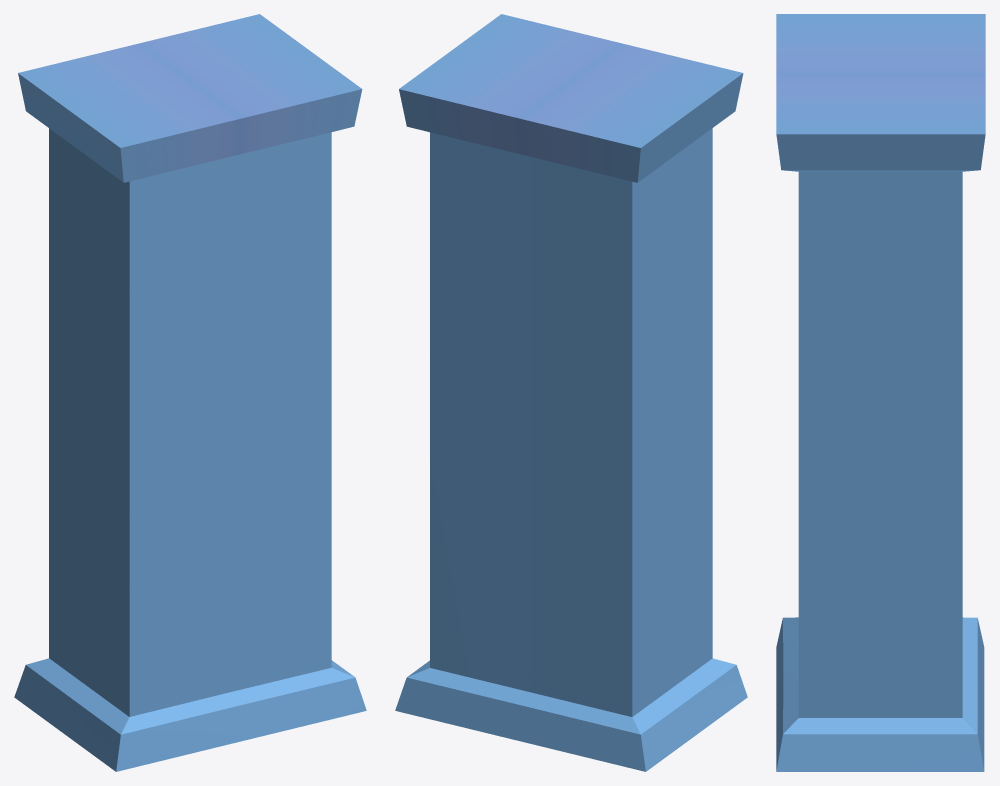
The model's file is qiang_14.FBX.
The picture shows the model from 3 angles, left to right: view 1: azimuth 30°, elevation 25°; view 2: azimuth 150°, elevation 25°; view 3: azimuth 270°, elevation 25°; orthographic projection. The views are drawn at different scales.
Visible parts, largest first — view 1: Object289; view 2: Object289; view 3: Object289.
Part boxes in pixels (bbox=[...]): Object289: bbox=[14, 14, 366, 771]; Object289: bbox=[395, 14, 747, 771]; Object289: bbox=[776, 14, 985, 771].
Size of the model in its own units: 320 by 760 by 227.
